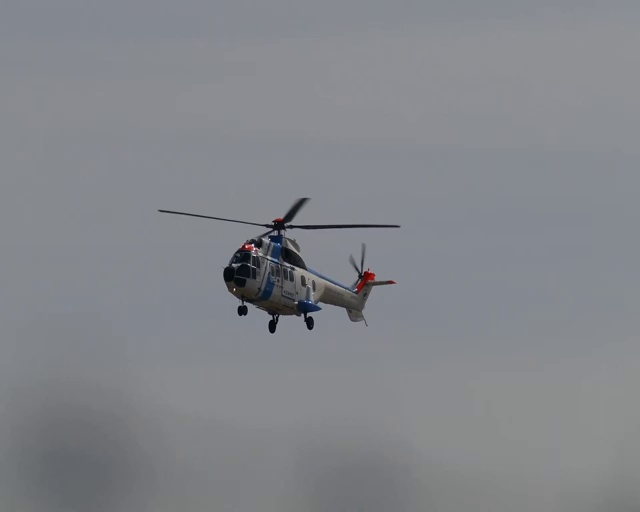HELICOPTER: (157, 197, 402, 335)
